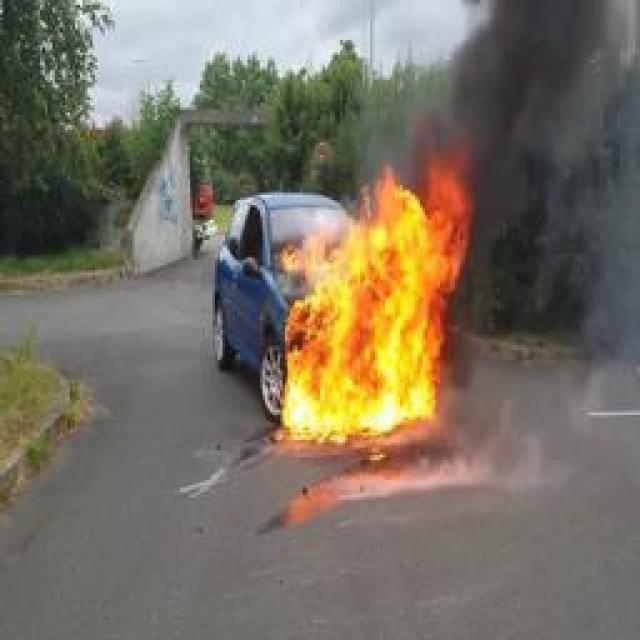Fire: (282, 142, 470, 440)
